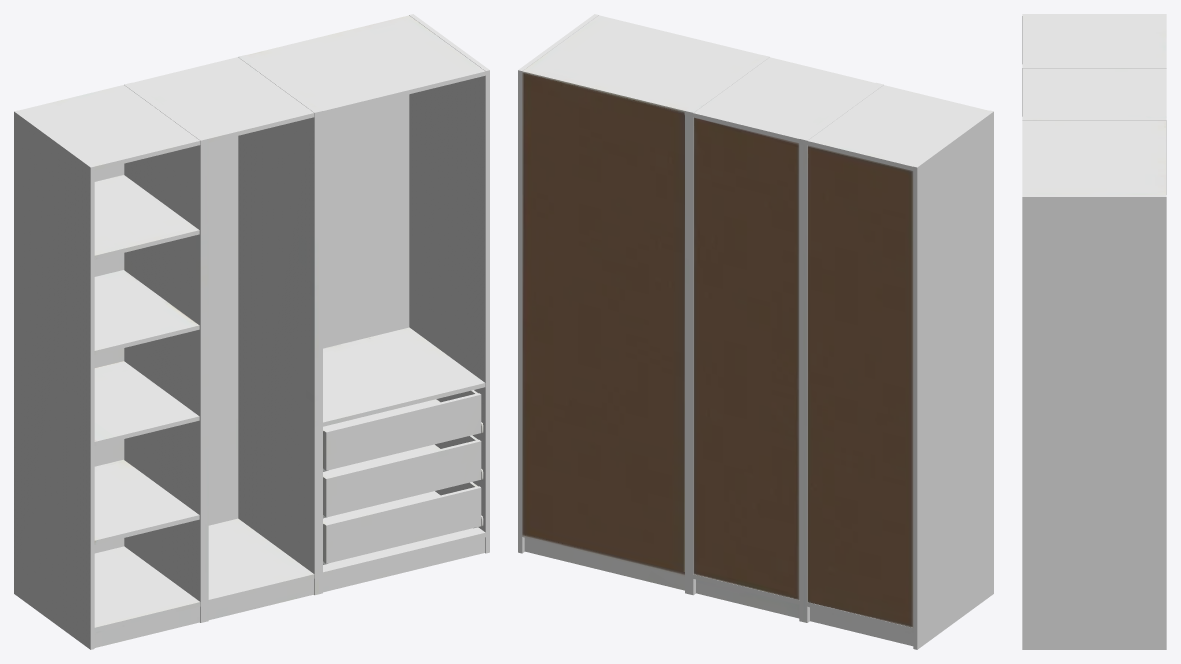
File: PAX wardrobe combination - white.glb
3 views of the same model, side by side, from view 1: azimuth 30°, elevation 25°; view 2: azimuth 150°, elevation 25°; view 3: azimuth 270°, elevation 25° (orthographic). The views are drawn at different scales.
Parts seen in each view (by area): view 1: Mesh_0.001; view 2: Mesh_0.001; view 3: Mesh_0.001.
Part boxes in pixels (x1=…): Mesh_0.001: x1=14, y1=14, x2=489, y2=649; Mesh_0.001: x1=518, y1=14, x2=993, y2=649; Mesh_0.001: x1=1022, y1=14, x2=1166, y2=649.
Bounding box in the file's own units: 1.74 × 2.01 × 0.5799.
1 material, 1 textured.
